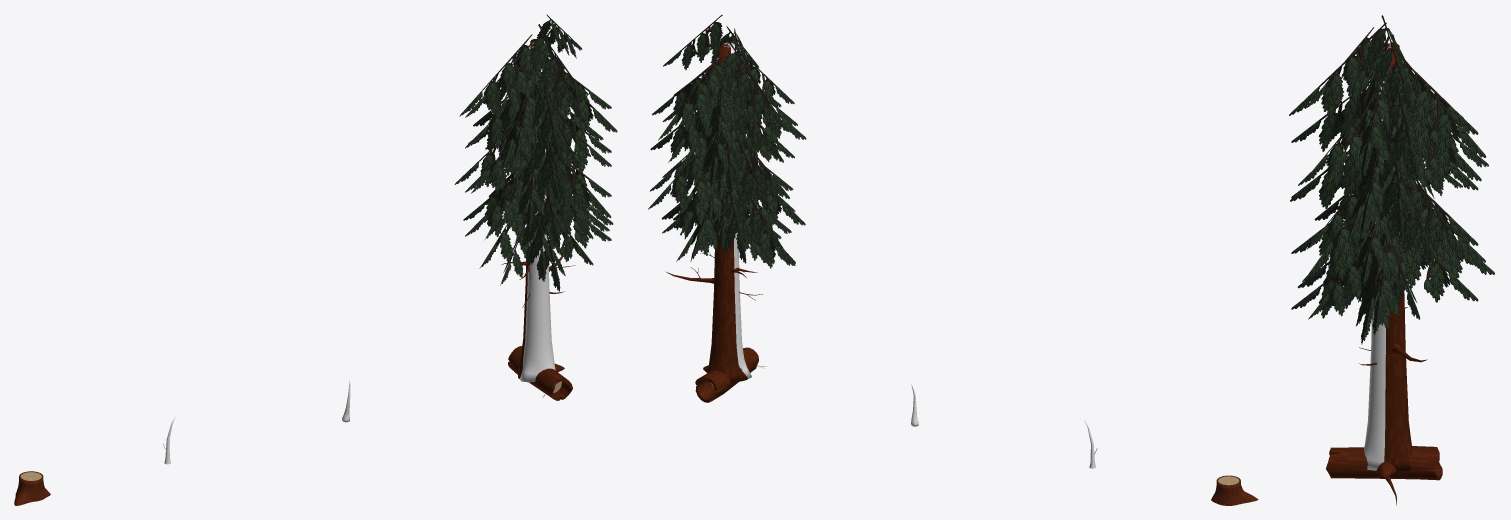
File: pine_tree_2.fbx
3 views of the same model, side by side, from view 1: azimuth 30°, elevation 25°; view 2: azimuth 150°, elevation 25°; view 3: azimuth 270°, elevation 25° (orthographic). The views are drawn at different scales.
Visible parts, largest first — view 1: pine_1_branches, pine_2_branches, pinetree_1.001, tree_log, stump; view 2: pine_1_branches, pine_2_branches, pine_tree_1, tree_log, stump, pinetree_1.001; view 3: pine_1_branches, pine_2_branches, pine_tree_1, tree_log, pinetree_1.001, pine_tree_2.
Part boxes in pixels (x1,y1,x2,y2): pine_1_branches: [454, 24, 617, 281]; pine_2_branches: [465, 14, 611, 291]; pinetree_1.001: [520, 42, 555, 382]; tree_log: [508, 346, 572, 400]; stump: [14, 471, 50, 505]; pine_1_branches: [648, 26, 806, 263]; pine_2_branches: [662, 15, 795, 268]; pine_tree_1: [665, 44, 762, 383]; tree_log: [695, 347, 764, 402]; stump: [1211, 475, 1258, 505]; pinetree_1.001: [722, 42, 751, 378]; pine_1_branches: [1289, 22, 1494, 334]; pine_2_branches: [1291, 15, 1478, 344]; pine_tree_1: [1359, 43, 1427, 471]; tree_log: [1326, 446, 1442, 505]; pinetree_1.001: [1364, 42, 1390, 470]; pine_tree_2: [1359, 45, 1399, 478].
Bounding box in the file's own units: 5701 × 3471 × 1365.
